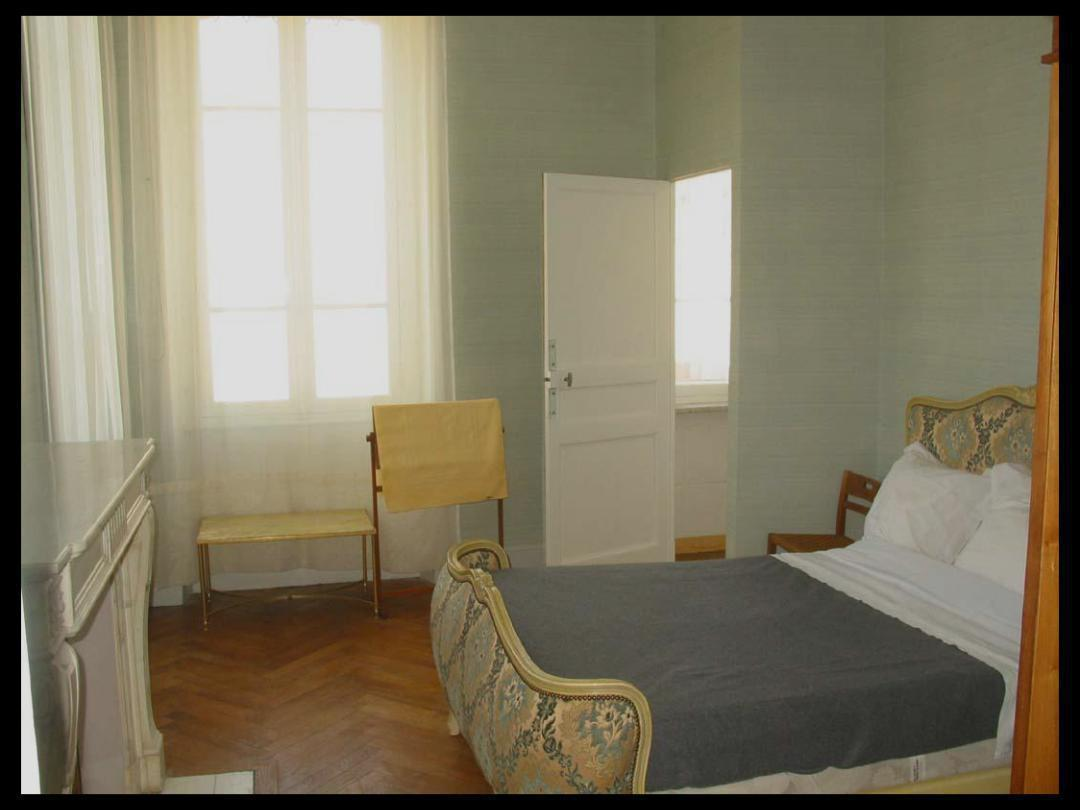Otro Obstaculo: (369, 400, 509, 593)
Puerta: (544, 170, 677, 563)
